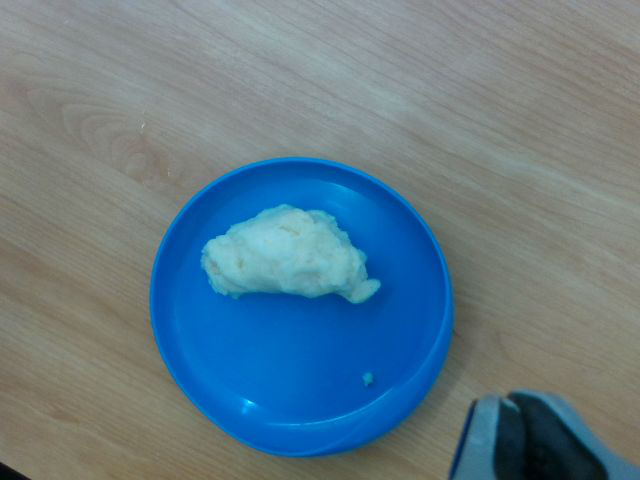mashed_potato: (200, 204, 380, 306)
